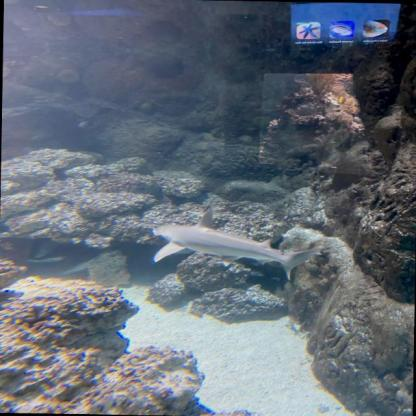shark: (152, 208, 324, 280)
